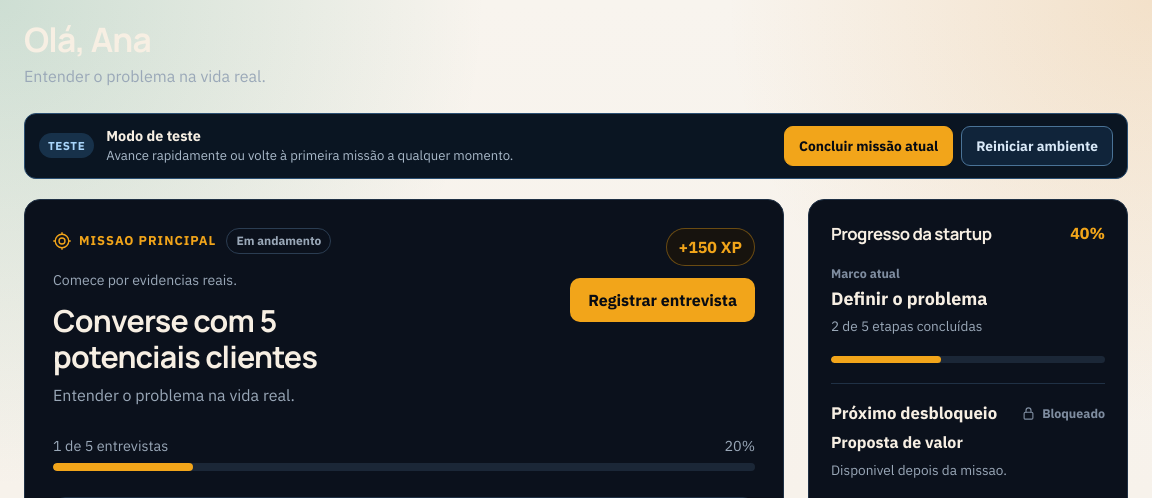
Scenario: StartupHomeScreen › completes the current test mission and refreshes the Home payload
The image size is (1152, 498).
What coordinates should you click on to do the following:
click the button "Concluir missão atual"
I would click on:
 (869, 146)
Its box is [784,126,953,166].
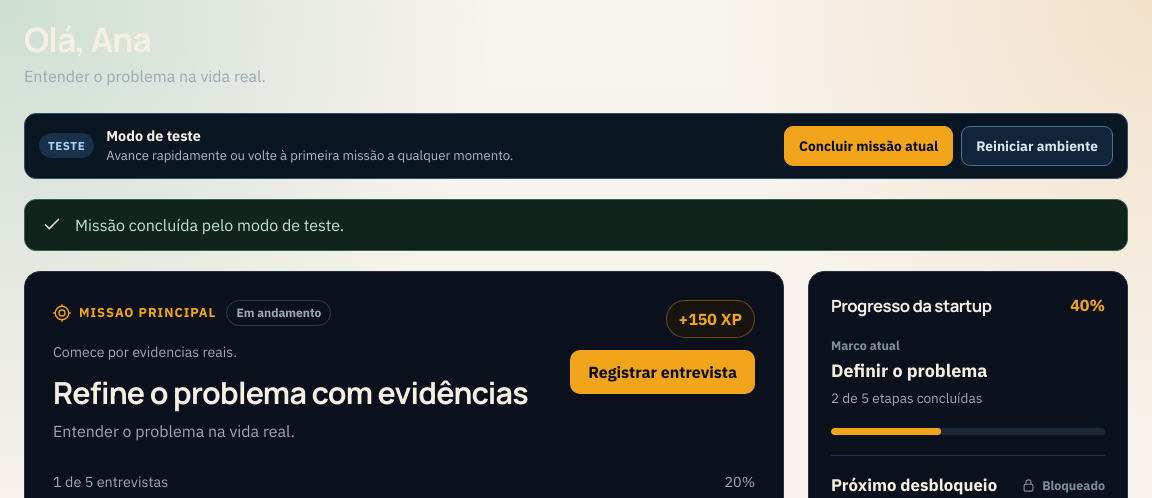
Now the text "Missão concluída pelo modo de teste." is shown, box [75,215,344,235]
Now the heading "Refine o problema com evidências" is shown, box [53,375,528,411]
